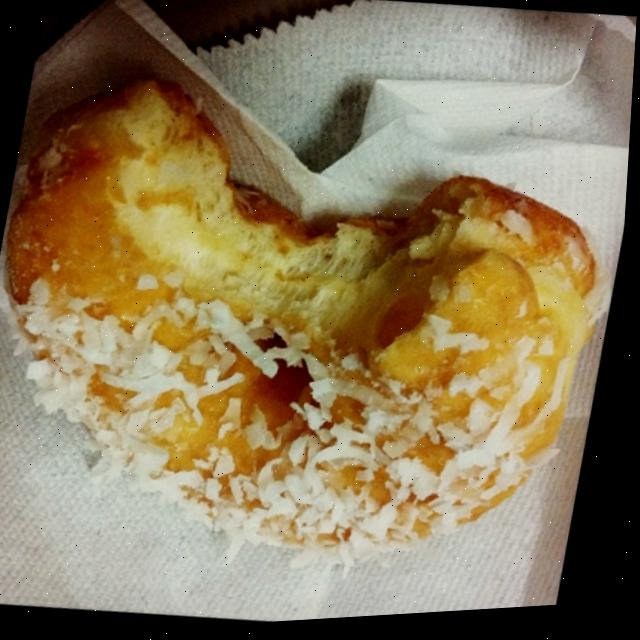炸货点心: (0, 7, 638, 624)
